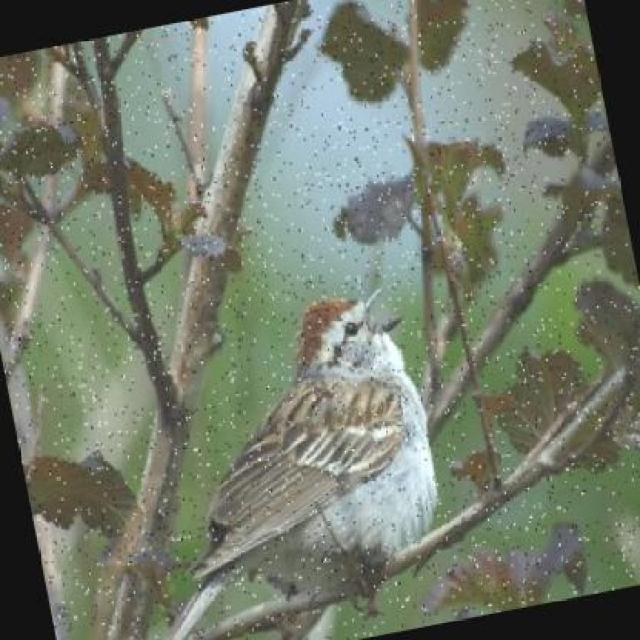Bird: (185, 284, 446, 600)
